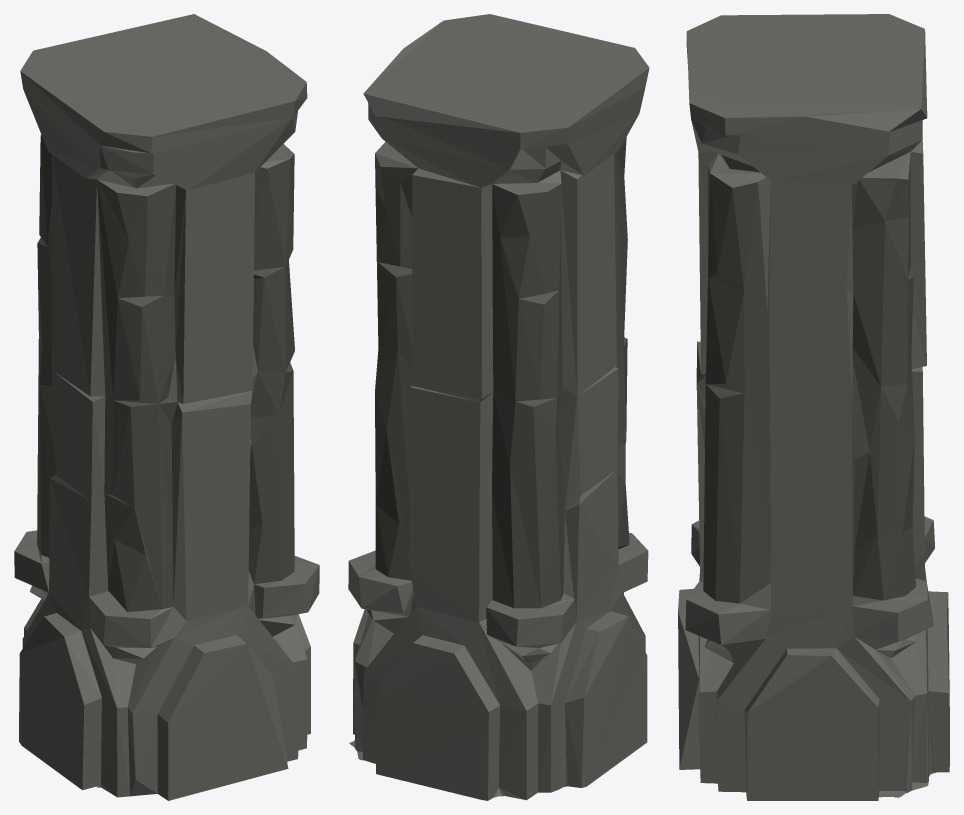
File: MDungeon_PillarSmall_Mid_01.FBX
3 renders of one model, left to right at view 1: azimuth 30°, elevation 25°; view 2: azimuth 150°, elevation 25°; view 3: azimuth 270°, elevation 25°, orthographic.
Visible parts, largest first — view 1: MDungeon_PillarSmall_Mid_01_LOD0; view 2: MDungeon_PillarSmall_Mid_01_LOD0; view 3: MDungeon_PillarSmall_Mid_01_LOD0.
Part boxes in pixels (<box>): MDungeon_PillarSmall_Mid_01_LOD0: <box>14,14,319,800</box>; MDungeon_PillarSmall_Mid_01_LOD0: <box>348,14,649,800</box>; MDungeon_PillarSmall_Mid_01_LOD0: <box>678,14,949,800</box>.
Size of what is drawn, in the model's own units: 1.92 by 5.32 by 1.94.
